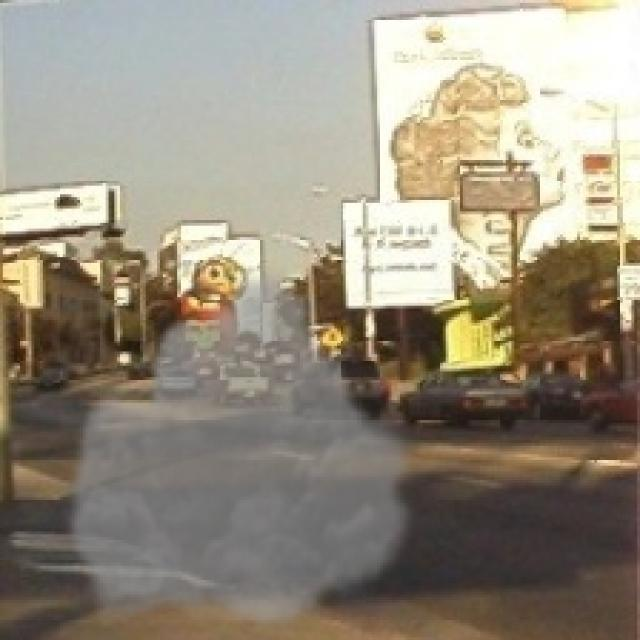Smoke: (60, 263, 423, 632)
